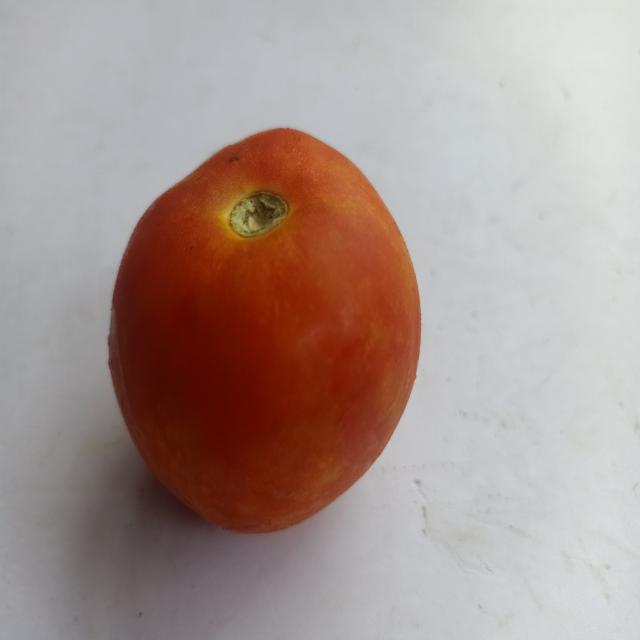Tomato: (93, 111, 461, 548)
